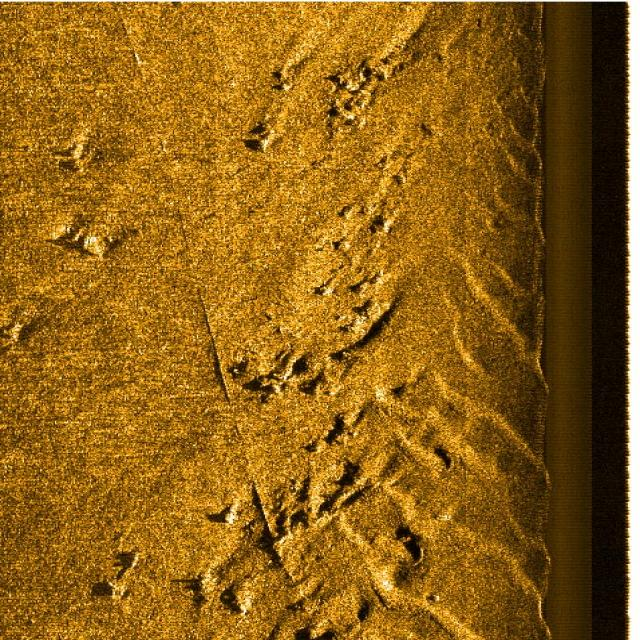other: (191, 408, 367, 616), (226, 198, 406, 394), (229, 46, 420, 160), (39, 212, 146, 276)
